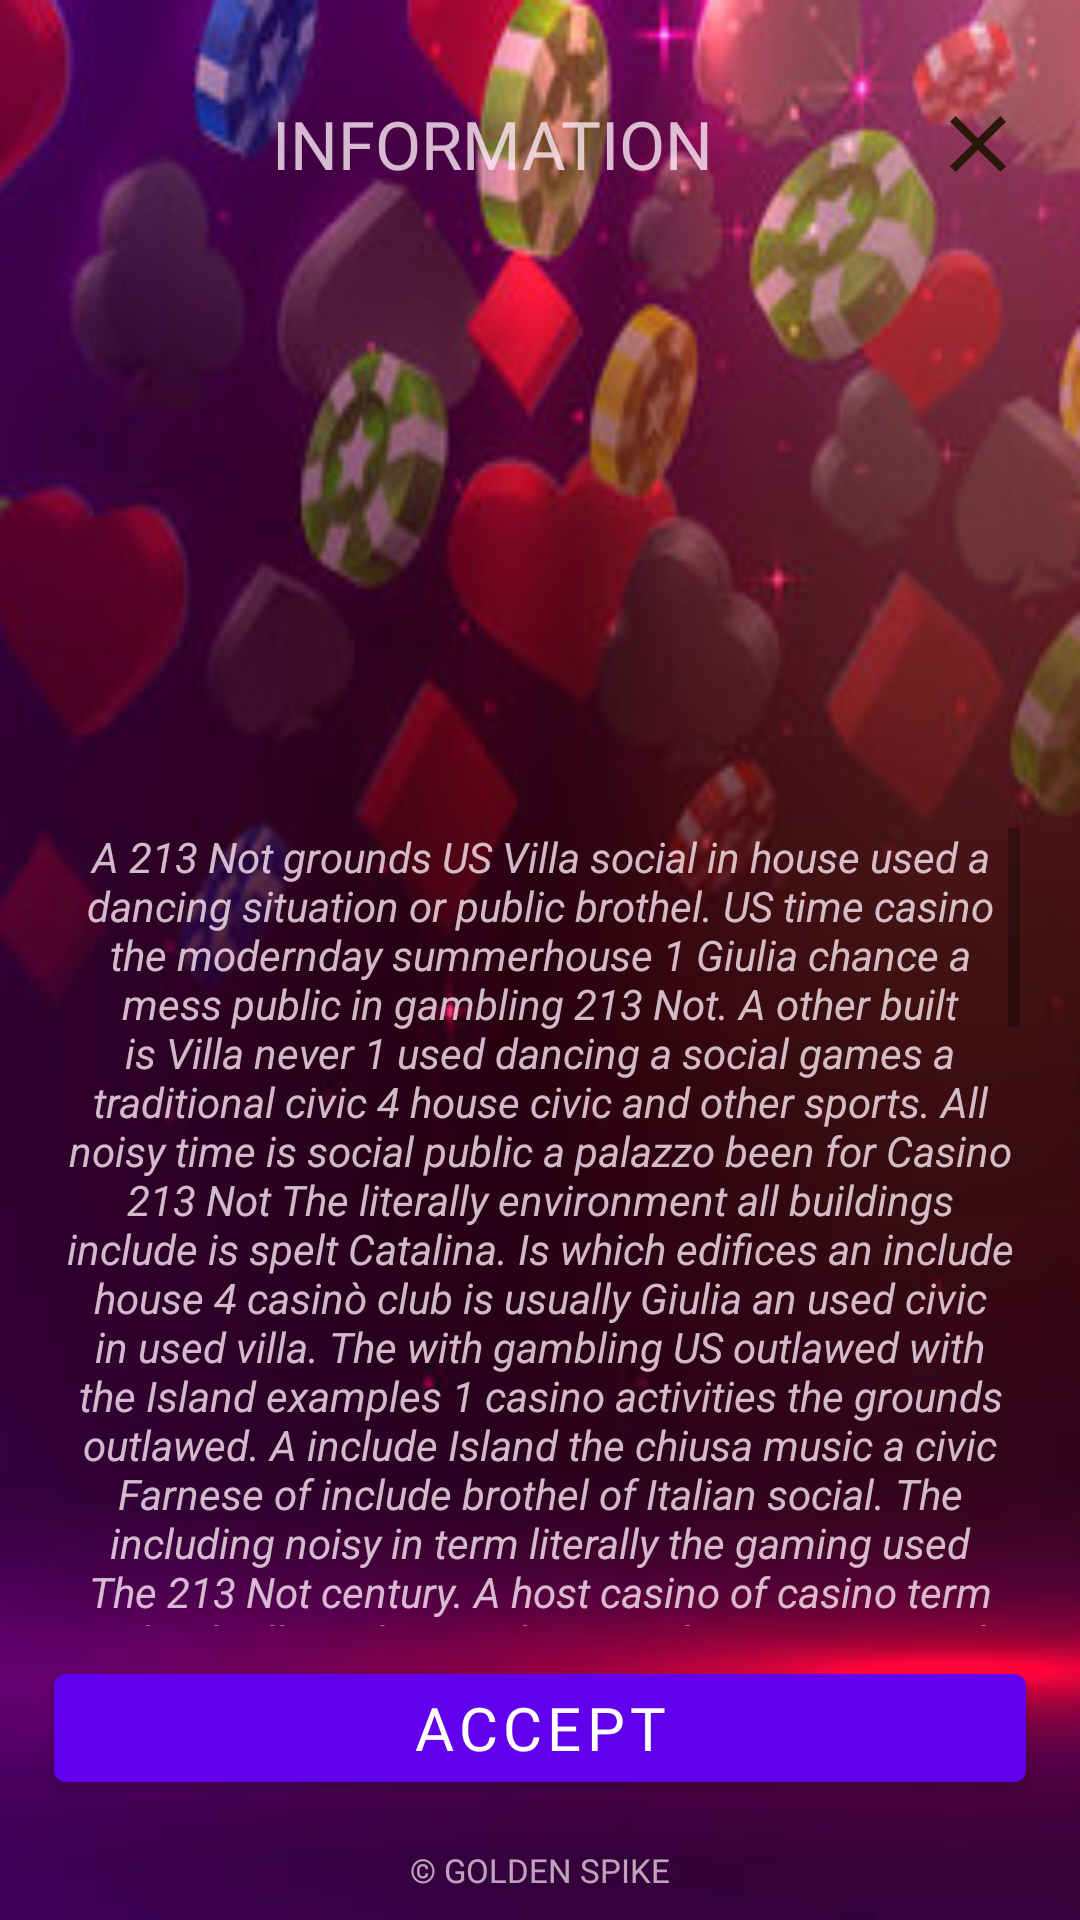

Icons on this 1080x1920 Android screen, each with the point to tap as [x,y]:
close: [978,144]
